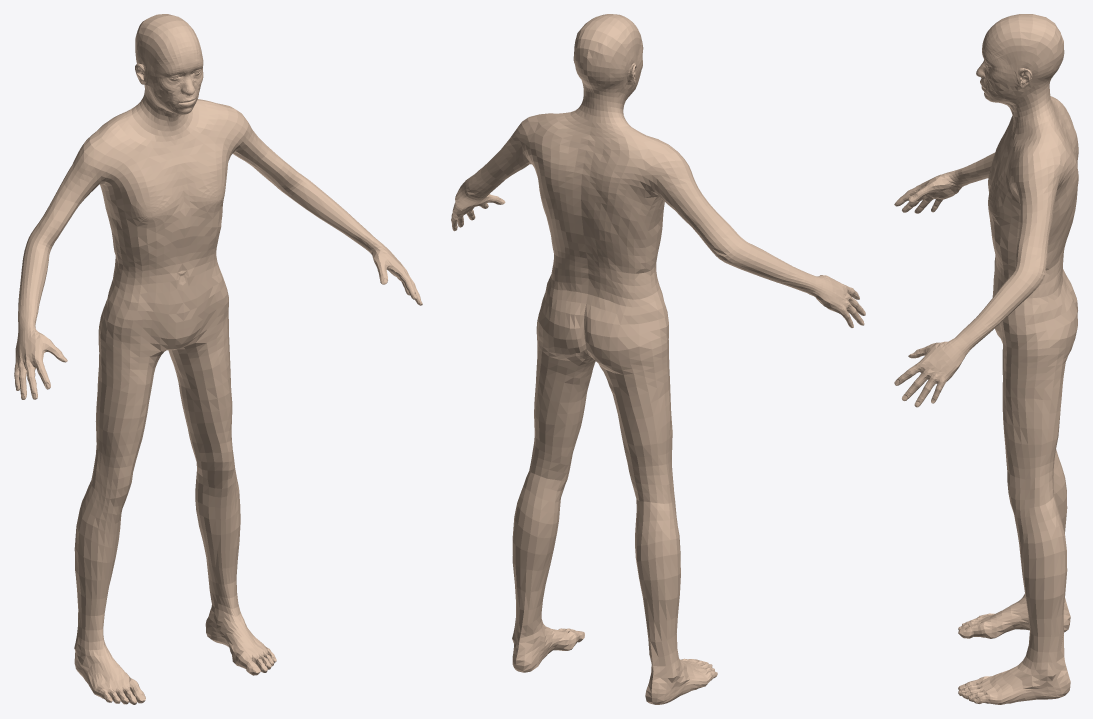
File: male-mature-lean-toned.glb
3 renders of one model, left to right at view 1: azimuth 30°, elevation 25°; view 2: azimuth 150°, elevation 25°; view 3: azimuth 270°, elevation 25°, orthographic.
Parts seen in each view (by area): view 1: world; view 2: world; view 3: world.
Boxes of the visible parts, <box> form: world: <box>14,14,422,704</box>; world: <box>451,14,865,704</box>; world: <box>894,14,1078,704</box>.
Bounding box in the file's own units: 1.25 × 1.94 × 0.4991.
